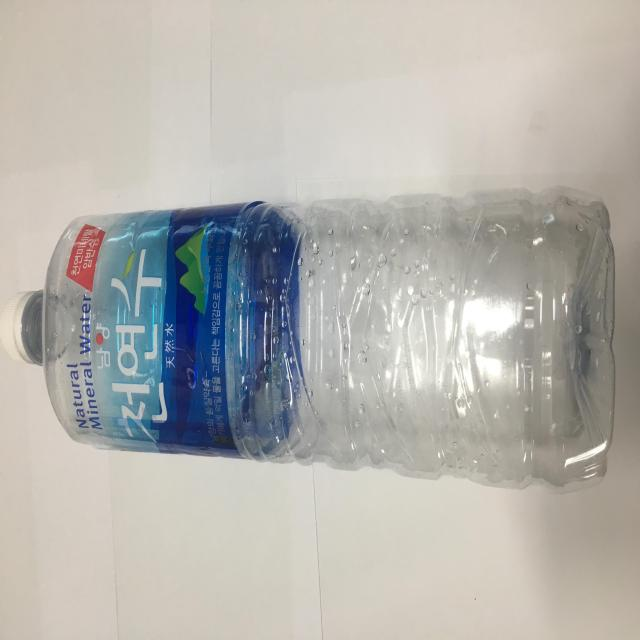bottle: (11, 188, 619, 498)
